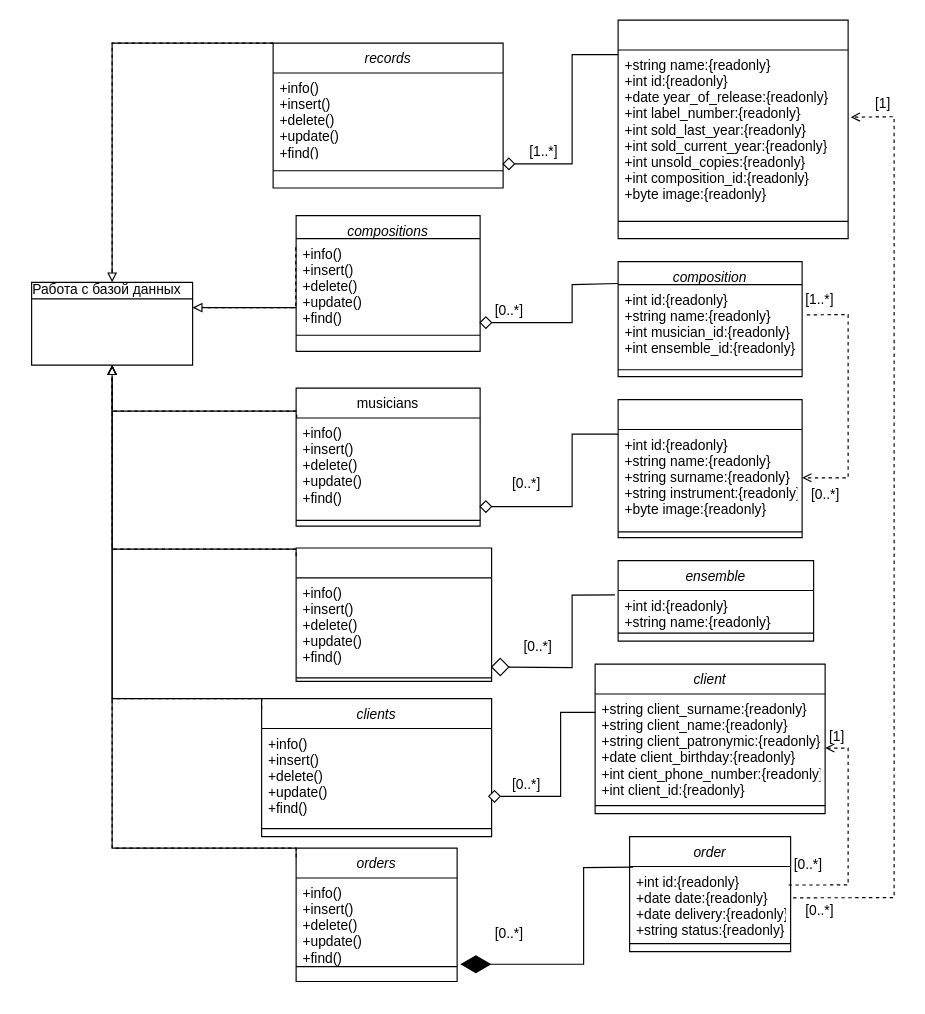
Some shapes in this 925 by 1014 pixel diagram are drawn without their labels. The shapes that lost their labels are listed below. From the top down, each one's box as (x1, y1, x2, y2) in pixels, then its label:
(617, 19, 848, 239): record
(30, 281, 193, 365): +update() +insert() +delete()
(617, 398, 802, 538): musician
(295, 547, 492, 681): ensembles
